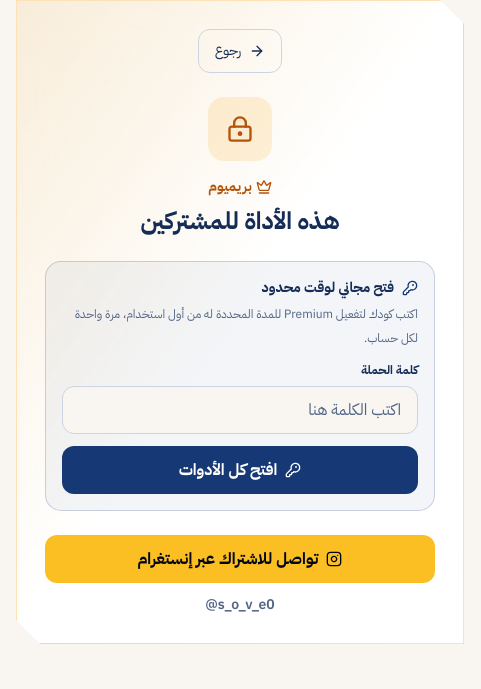
Premium lock screen › shows a useful error for an invalid campaign word
Type "خطأ" into the field labelled "كلمة الحملة". click: [240, 410]
box: [62, 386, 418, 434]
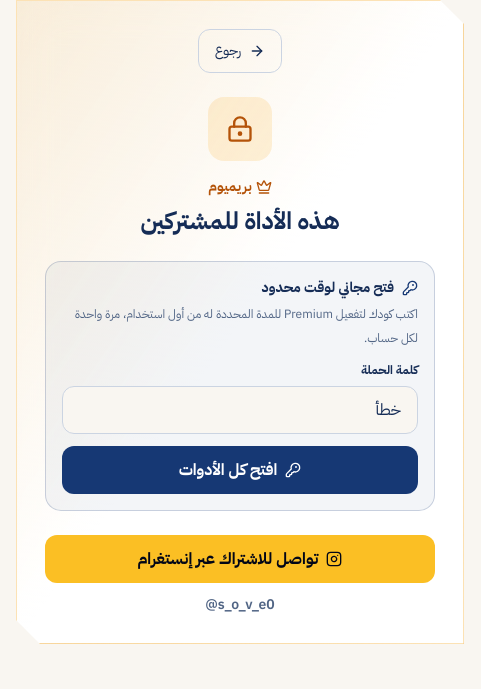
Click the button "افتح كل الأدوات". click: [240, 470]
box: [62, 446, 418, 494]
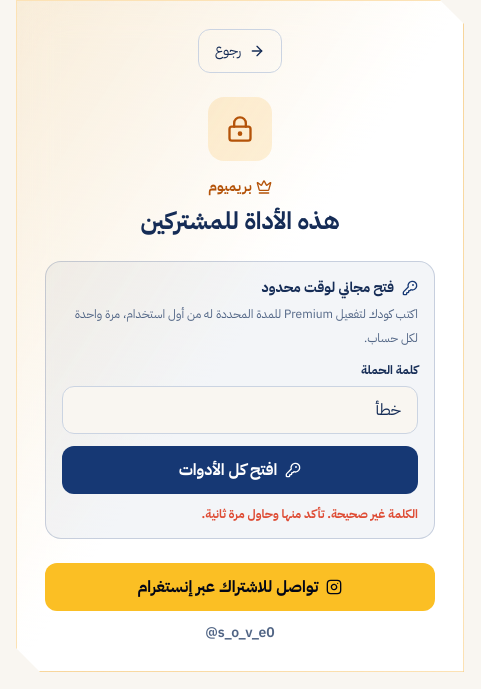
expect the message shows "الكلمة غير صحيحة": met, box [202, 505, 418, 523]
